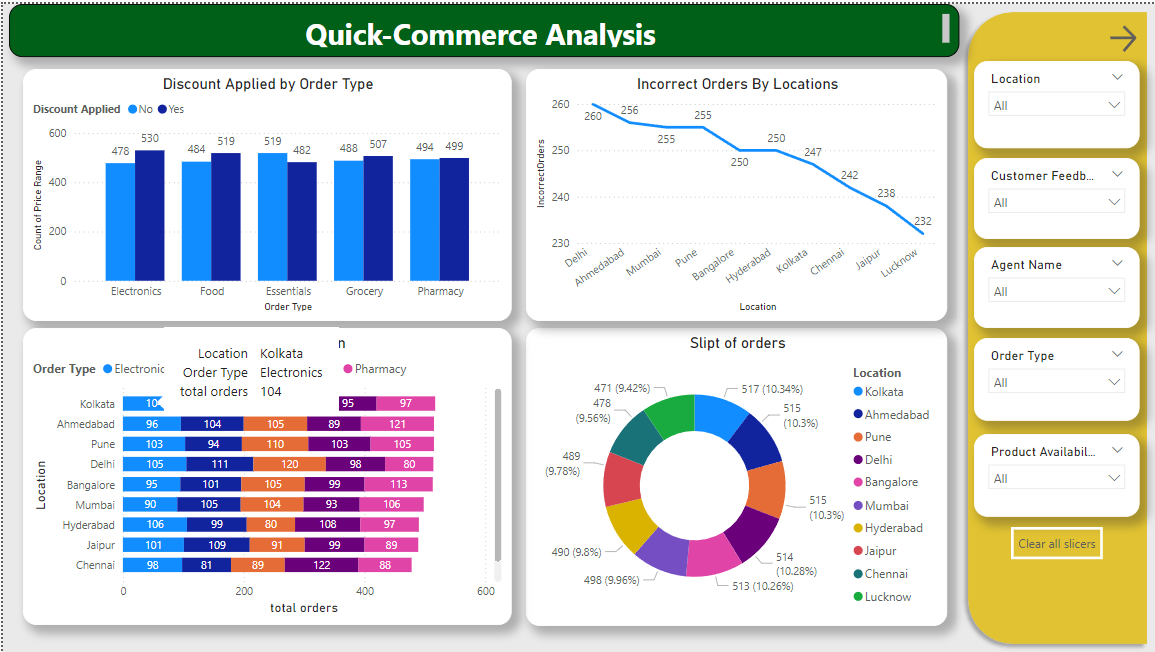

Layout of this report page (visuals, bound fields, positions):
{"tool":"powerbi","page":{"name":" Page 3","canvas":[1280,720],"ordinal":2},"visuals":[{"type":"shape","box":[1063,0,216.7,720],"z":4000},{"type":"slicer","fields":{"Values":["zepto.Location"]},"box":[1079.1,63.6,184.5,96.7],"z":6000},{"type":"slicer","fields":{"Values":["zepto.Customer Feedback Type"]},"box":[1079.1,171,184.5,89.6],"z":7000},{"type":"slicer","fields":{"Values":["zepto.Agent Name"]},"box":[1079.1,270.4,184.5,89.6],"z":8000},{"type":"slicer","fields":{"Values":["zepto.Order Type"]},"box":[1079.1,371.6,184.5,92.2],"z":9000},{"type":"slicer","fields":{"Values":["zepto.Product Availability"]},"box":[1079.1,478.2,184.5,92.2],"z":10000},{"type":"textbox","box":[7.2,0,1055.8,59.1],"z":11000},{"type":"clusteredColumnChart","title":"Discount Applied  by Order Type","fields":{"Category":["zepto.Order Type"],"Series":["zepto.Discount Applied"],"Y":["CountNonNull(zepto.Price Range)"]},"box":[22.4,72.5,542.7,280.3],"z":12000},{"type":"donutChart","title":"Slipt of orders","fields":{"Category":["zepto.Location"],"Y":["zepto.total orders"]},"box":[581.2,360,468.4,331.3],"z":13000},{"type":"barChart","title":"Order Type by Location","fields":{"Category":["zepto.Location"],"Series":["zepto.Order Type"],"Y":["zepto.total orders"]},"box":[22.4,360,542.7,330.4],"z":14000},{"type":"lineChart","title":"Incorrect  Orders By Locations","fields":{"Category":["zepto.Location"],"Y":["zepto.IncorrectOrders"]},"box":[581.2,72.5,468.4,280.3],"z":15000},{"type":"actionButton","box":[1224.2,18.8,39.4,40.3],"z":16000},{"type":"actionButton","box":[1120.3,581.2,102.1,35.8],"z":18000}]}

Visuals, with their boxes in screenshot pixels (x1, y1, x2, y2), scaled from the page's 1280x720 canvas onto the 1155x652 screenshot:
shape: left=959, top=0, right=1154, bottom=651
slicer - zepto.Location: left=974, top=58, right=1140, bottom=145
slicer - zepto.Customer Feedback Type: left=974, top=155, right=1140, bottom=236
slicer - zepto.Agent Name: left=974, top=245, right=1140, bottom=326
slicer - zepto.Order Type: left=974, top=337, right=1140, bottom=420
slicer - zepto.Product Availability: left=974, top=433, right=1140, bottom=517
textbox: left=6, top=0, right=959, bottom=54
"Discount Applied  by Order Type" clusteredColumnChart: left=20, top=66, right=510, bottom=319
"Slipt of orders" donutChart: left=524, top=326, right=947, bottom=626
"Order Type by Location" barChart: left=20, top=326, right=510, bottom=625
"Incorrect  Orders By Locations" lineChart: left=524, top=66, right=947, bottom=319
actionButton: left=1105, top=17, right=1140, bottom=54
actionButton: left=1011, top=526, right=1103, bottom=559
